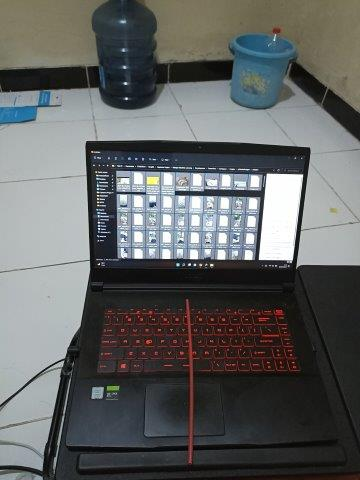sedotan: (185, 300, 194, 463)
